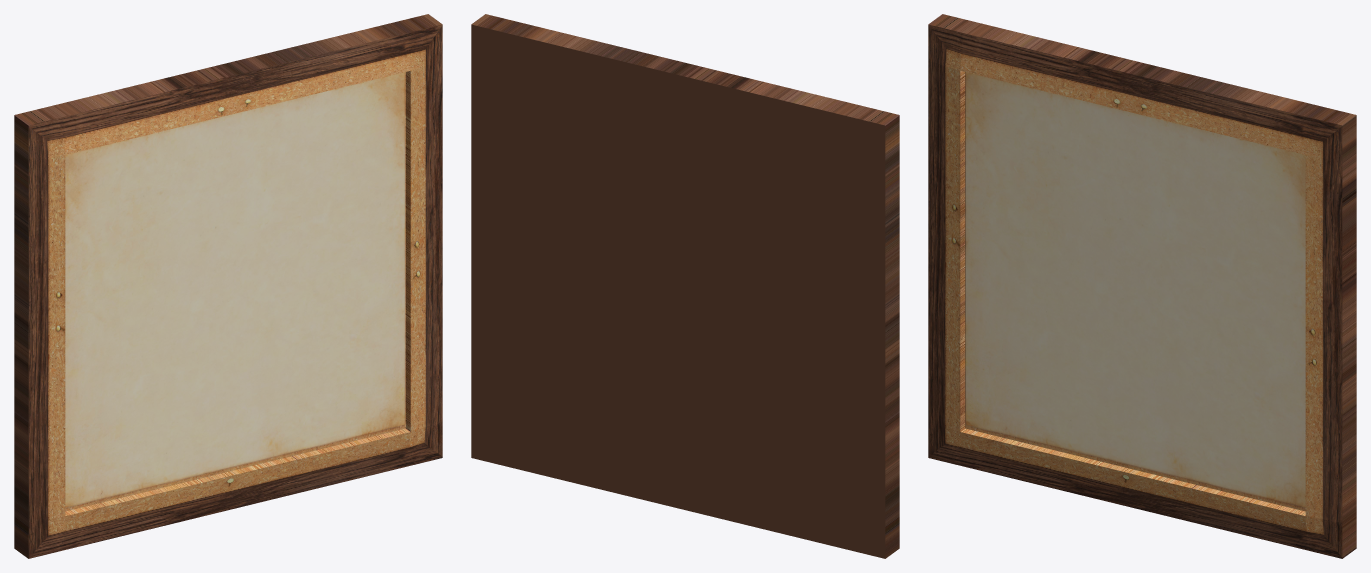
The model's file is panel_talk.glb.
3 renders of one model, left to right at view 1: azimuth 30°, elevation 25°; view 2: azimuth 150°, elevation 25°; view 3: azimuth 330°, elevation 25°, orthographic.
Visible parts, largest first — view 1: panel_talk; view 2: panel_talk; view 3: panel_talk.
Part boxes in pixels (left/top/right/bottom): panel_talk: left=14, top=14, right=442, bottom=558; panel_talk: left=471, top=14, right=899, bottom=558; panel_talk: left=928, top=14, right=1356, bottom=558.
Bounding box in the file's own units: 0.6 × 0.6 × 0.042.
Materials: 1 (1 with a texture image).
